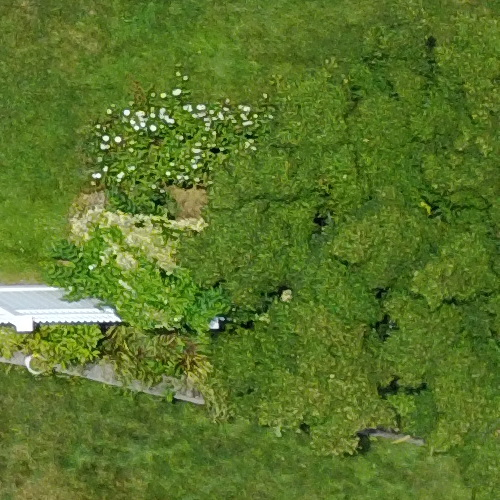flower pot: (22, 348, 66, 383)
